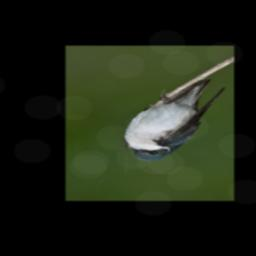Swallow: (121, 78, 226, 163)
